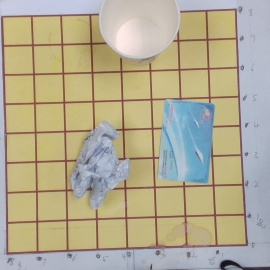card: (158, 99, 216, 185)
cup: (97, 1, 180, 67)
